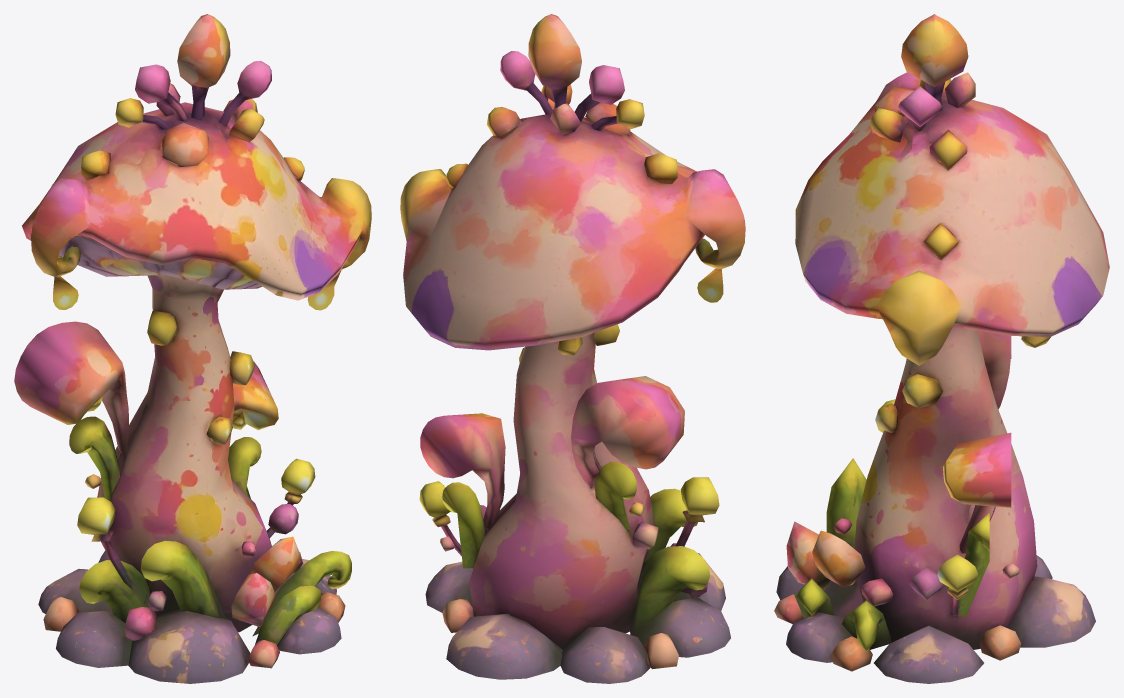
File: alien_mushroom_01.glb
3 views of the same model, side by side, from view 1: azimuth 30°, elevation 25°; view 2: azimuth 150°, elevation 25°; view 3: azimuth 270°, elevation 25° (orthographic). The views are drawn at different scales.
Parts seen in each view (by area): view 1: tripo_node_a1017d7a-7797-495e-85e7-343f17266ab6; view 2: tripo_node_a1017d7a-7797-495e-85e7-343f17266ab6; view 3: tripo_node_a1017d7a-7797-495e-85e7-343f17266ab6.
Part boxes in pixels (x1,y1,x2,y2): tripo_node_a1017d7a-7797-495e-85e7-343f17266ab6: (14,14,371,683); tripo_node_a1017d7a-7797-495e-85e7-343f17266ab6: (400,14,745,683); tripo_node_a1017d7a-7797-495e-85e7-343f17266ab6: (774,14,1109,683).
Bounding box in the file's own units: 0.6001 × 0.9995 × 0.4995.
Materials: 1 (1 with a texture image).
